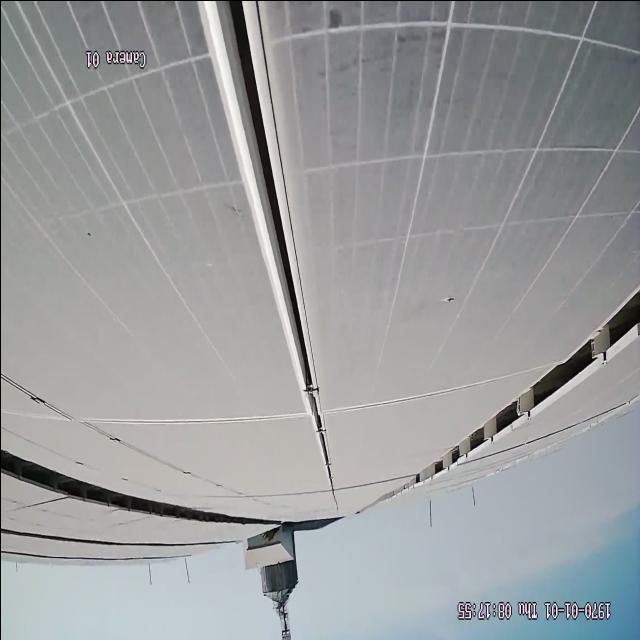interior panel: (201, 1, 338, 502)
outher panel: (387, 281, 640, 497), (0, 443, 235, 523)
